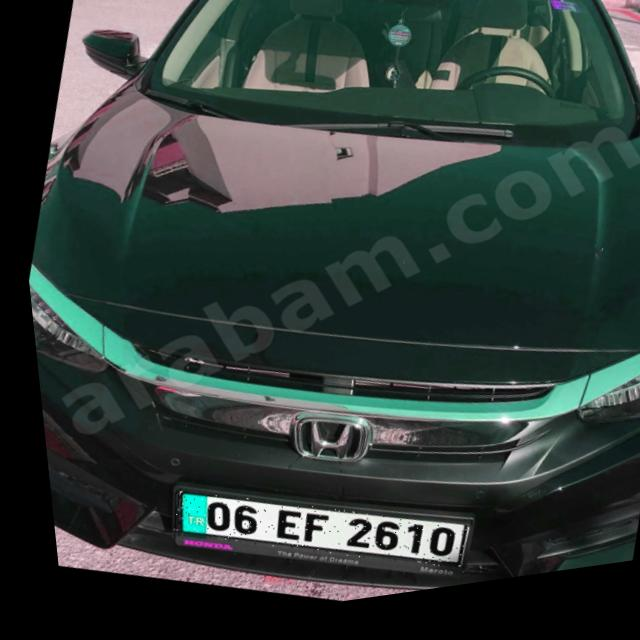license_plate: (155, 462, 457, 613)
